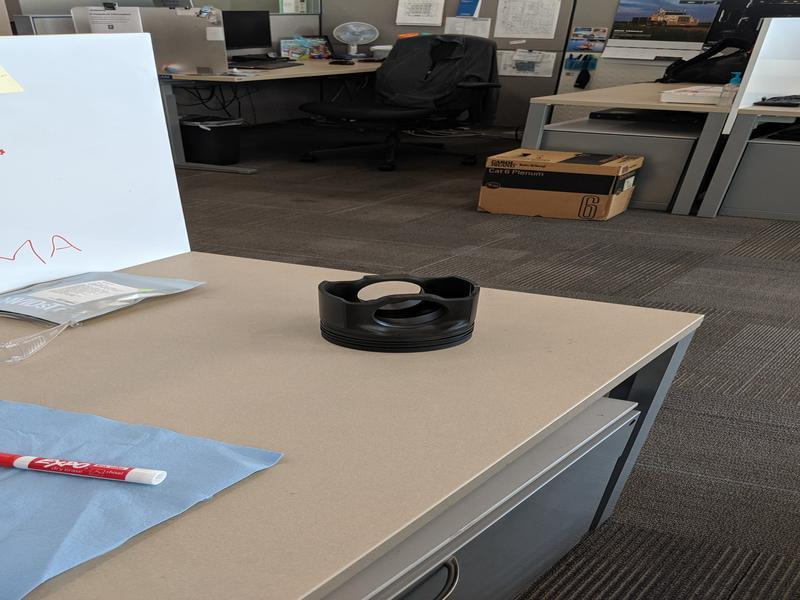piston: (313, 274, 486, 355)
